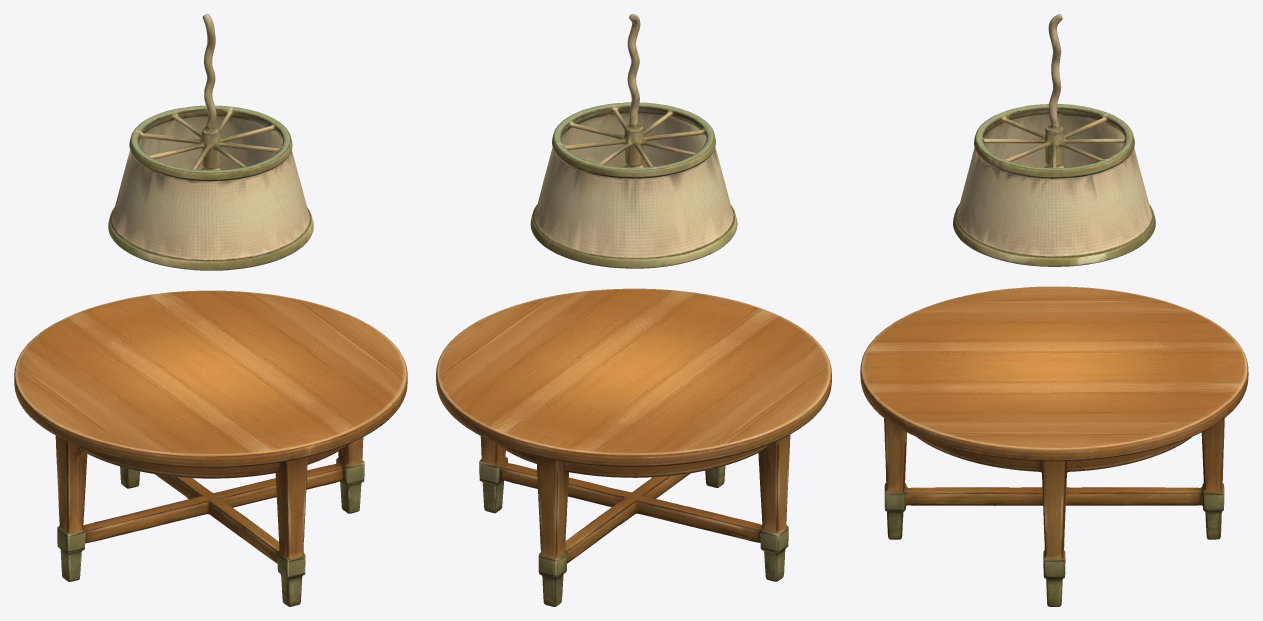
The model's file is table.glb.
3 renders of one model, left to right at view 1: azimuth 30°, elevation 25°; view 2: azimuth 150°, elevation 25°; view 3: azimuth 270°, elevation 25°, orthographic. The views are drawn at different scales.
Parts seen in each view (by area): view 1: Mesh_0; view 2: Mesh_0; view 3: Mesh_0.
Part boxes in pixels (x1,y1,x2,y2): Mesh_0: (14,14,407,606); Mesh_0: (436,14,831,606); Mesh_0: (860,14,1248,606).
Bounding box in the file's own units: 1.29 × 1.91 × 1.29.
Materials: 1 (1 with a texture image).
